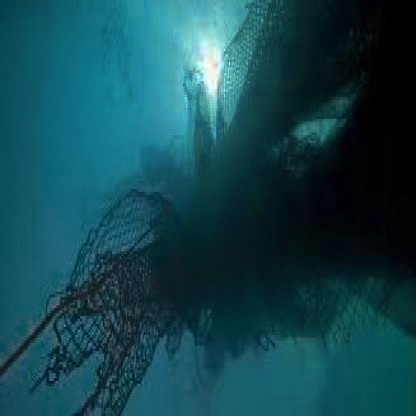net: (50, 178, 184, 397)
